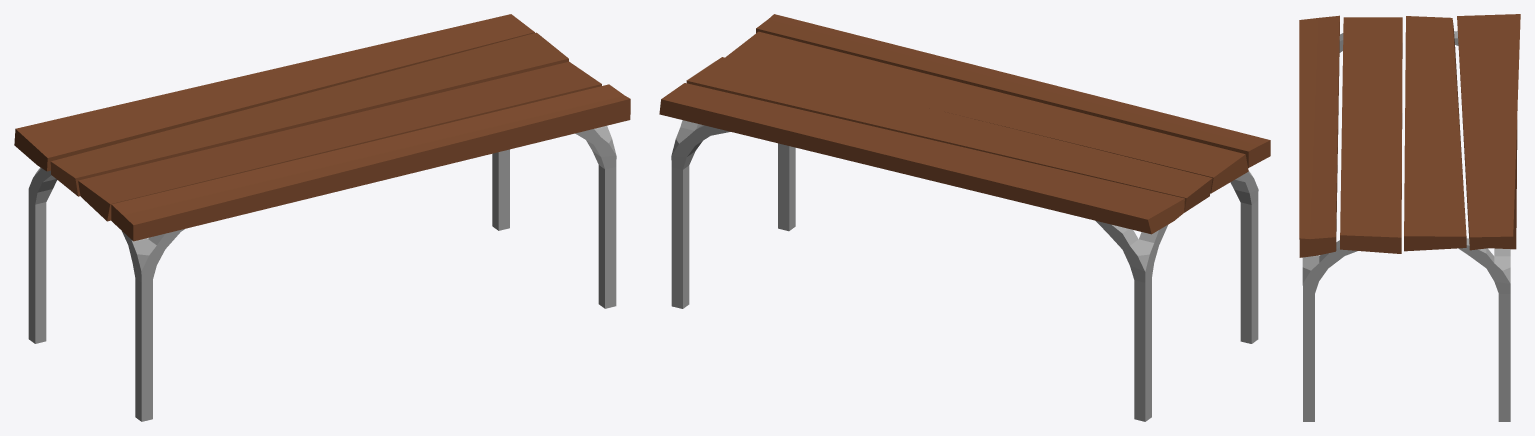
File: tablemetalwood02.obj
3 renders of one model, left to right at view 1: azimuth 30°, elevation 25°; view 2: azimuth 150°, elevation 25°; view 3: azimuth 270°, elevation 25°, orthographic. The views are drawn at different scales.
Parts seen in each view (by area): view 1: Cube_Cube.001; view 2: Cube_Cube.001; view 3: Cube_Cube.001.
Part boxes in pixels (left/top/right/bottom): Cube_Cube.001: left=14, top=14, right=630, bottom=421; Cube_Cube.001: left=659, top=14, right=1270, bottom=421; Cube_Cube.001: left=1299, top=14, right=1520, bottom=421.
Size of the model in its own units: 2.08 by 0.8281 by 0.8671.
